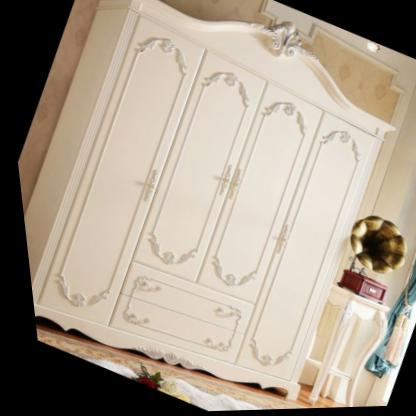Closet: (25, 0, 392, 405)
Curtains: (362, 230, 416, 378)
